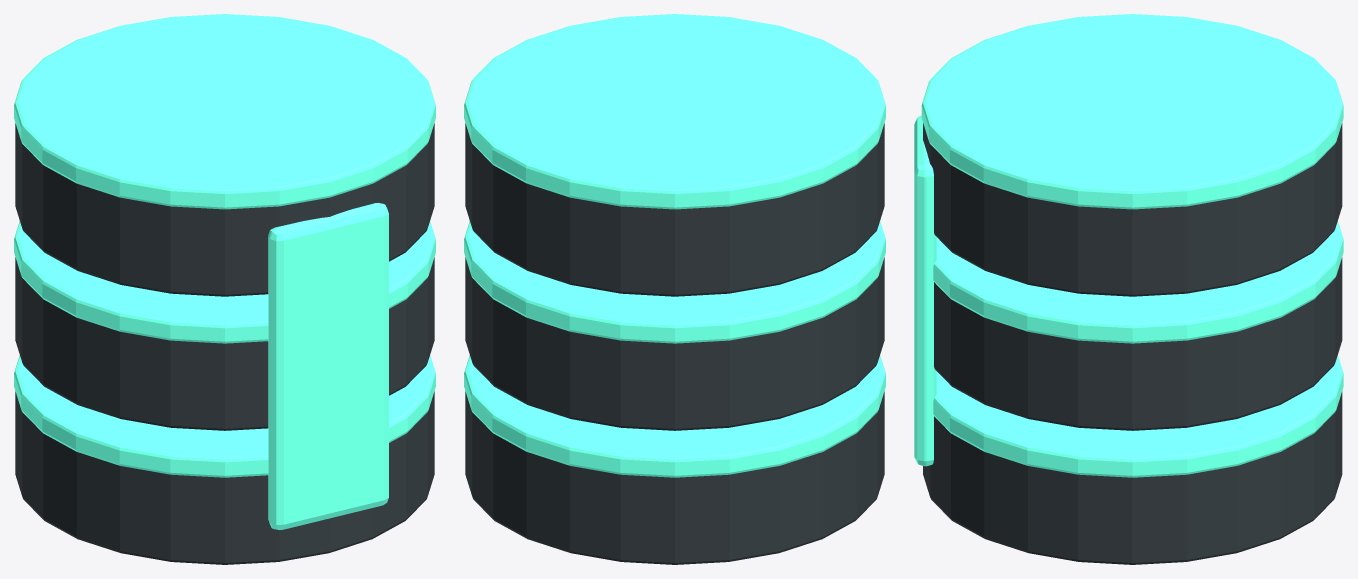
File: Artifact_Source.glb
3 renders of one model, left to right at view 1: azimuth 30°, elevation 25°; view 2: azimuth 150°, elevation 25°; view 3: azimuth 270°, elevation 25°, orthographic.
Visible parts, largest first — view 1: Artifact_Source_Mesh; view 2: Artifact_Source_Mesh; view 3: Artifact_Source_Mesh.
Part boxes in pixels (left/top/right/bottom): Artifact_Source_Mesh: left=14, top=14, right=435, bottom=564; Artifact_Source_Mesh: left=464, top=14, right=885, bottom=564; Artifact_Source_Mesh: left=914, top=14, right=1343, bottom=564.
Bounding box in the file's own units: 0.342 × 0.3365 × 0.348.
